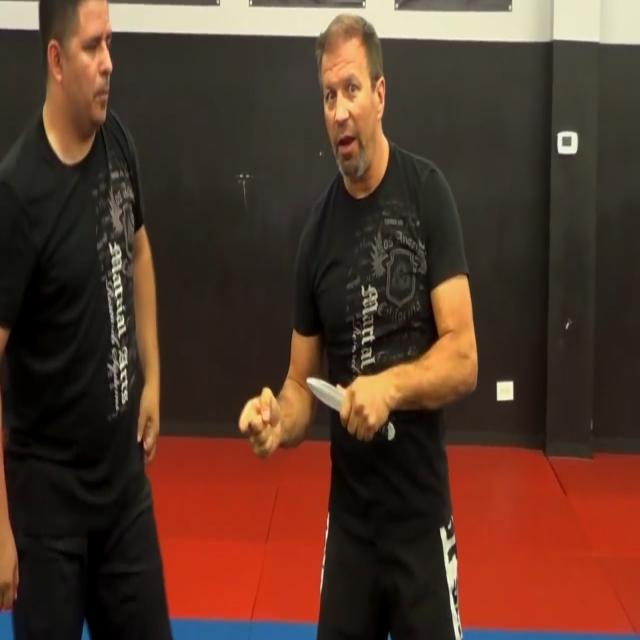knife: (304, 367, 344, 417)
